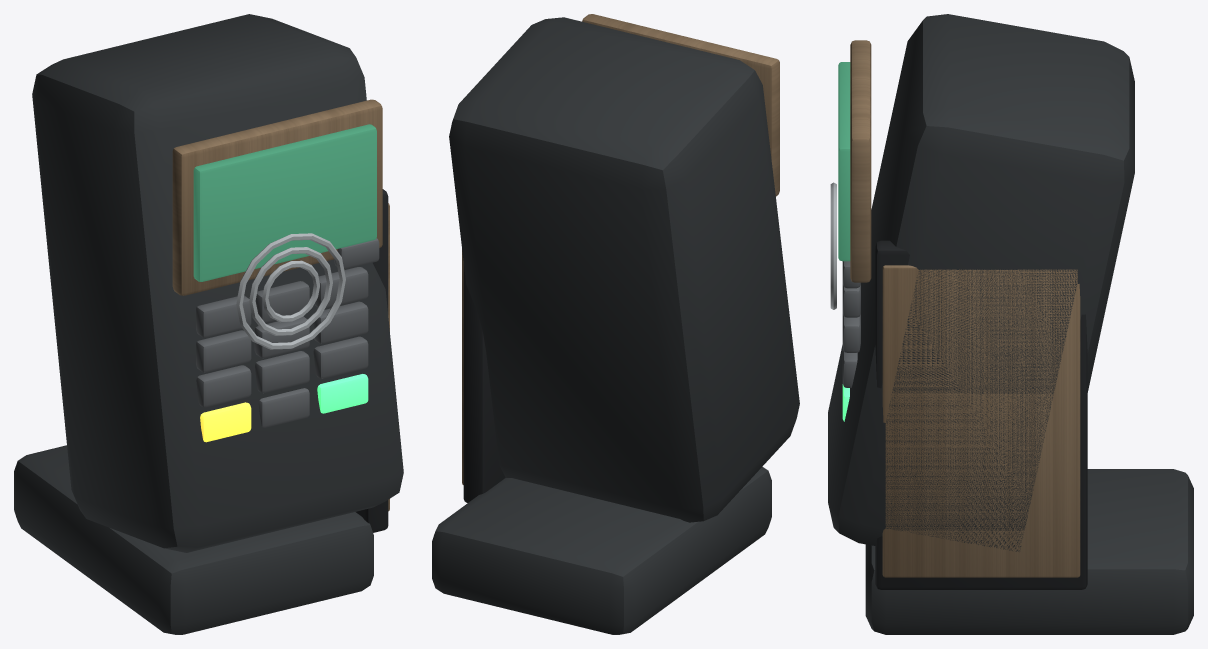
The model's file is card_reader_premium.glb.
3 renders of one model, left to right at view 1: azimuth 30°, elevation 25°; view 2: azimuth 150°, elevation 25°; view 3: azimuth 270°, elevation 25°, orthographic. The views are drawn at different scales.
Visible parts, largest first — view 1: Reader_Shell, Reader_Stand, Terminal_Screen, Reader_ScreenFrame, Reader_NFC_2, Terminal_Key_4, Terminal_Key_7, Terminal_Key_9, Terminal_Key_8, Reader_NFC_1, Terminal_Key_1, Terminal_Key_6 (+9 smaller); view 2: Reader_Shell, Reader_Stand, Reader_SwipeRailOuter, Reader_ScreenFrame; view 3: Reader_Shell, Reader_SwipeRailInner, Reader_Stand, Reader_SwipeRailOuter, Reader_ScreenFrame, Terminal_Screen, Reader_NFC_2, Terminal_Key_6, Terminal_Key_3.
Boxes of the visible parts, x1=… form: Reader_Shell: x1=32, y1=14, x2=403, y2=552; Reader_Stand: x1=14, y1=445, x2=373, y2=634; Terminal_Screen: x1=193, y1=124, x2=376, y2=281; Reader_ScreenFrame: x1=172, y1=99, x2=382, y2=295; Reader_NFC_2: x1=236, y1=233, x2=345, y2=349; Terminal_Key_4: x1=196, y1=330, x2=251, y2=372; Terminal_Key_7: x1=196, y1=365, x2=251, y2=407; Terminal_Key_9: x1=313, y1=336, x2=368, y2=378; Terminal_Key_8: x1=255, y1=351, x2=309, y2=393; Reader_NFC_1: x1=249, y1=247, x2=332, y2=335; Terminal_Key_1: x1=196, y1=296, x2=251, y2=337; Terminal_Key_6: x1=313, y1=301, x2=368, y2=343; Reader_Shell: x1=449, y1=17, x2=799, y2=522; Reader_Stand: x1=432, y1=467, x2=771, y2=634; Reader_SwipeRailOuter: x1=463, y1=264, x2=505, y2=502; Reader_ScreenFrame: x1=582, y1=14, x2=779, y2=196; Reader_Shell: x1=828, y1=14, x2=1134, y2=551; Reader_SwipeRailInner: x1=882, y1=265, x2=1080, y2=577; Reader_Stand: x1=865, y1=469, x2=1193, y2=634; Reader_SwipeRailOuter: x1=875, y1=240, x2=1087, y2=589; Reader_ScreenFrame: x1=850, y1=40, x2=871, y2=282; Terminal_Screen: x1=838, y1=62, x2=850, y2=261; Reader_NFC_2: x1=830, y1=182, x2=836, y2=309; Terminal_Key_6: x1=842, y1=314, x2=860, y2=352; Terminal_Key_3: x1=842, y1=284, x2=860, y2=317.
Size of what is drawn, in the model's own units: 0.096 by 0.1935 by 0.1213.
8 materials, 1 textured.
